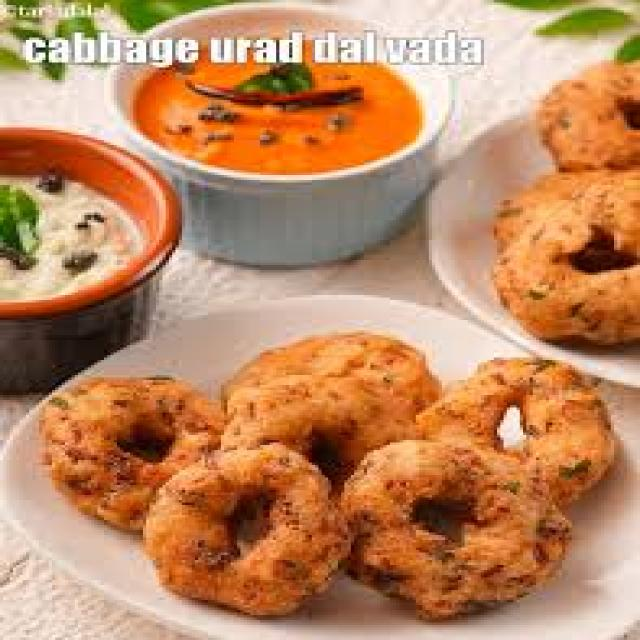MEDU VADA: (344, 428, 565, 618), (143, 442, 351, 615), (221, 332, 439, 480), (419, 358, 611, 508), (42, 378, 218, 530), (491, 170, 637, 340), (536, 60, 637, 168)
